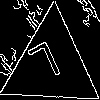L: (26, 40, 67, 94)
